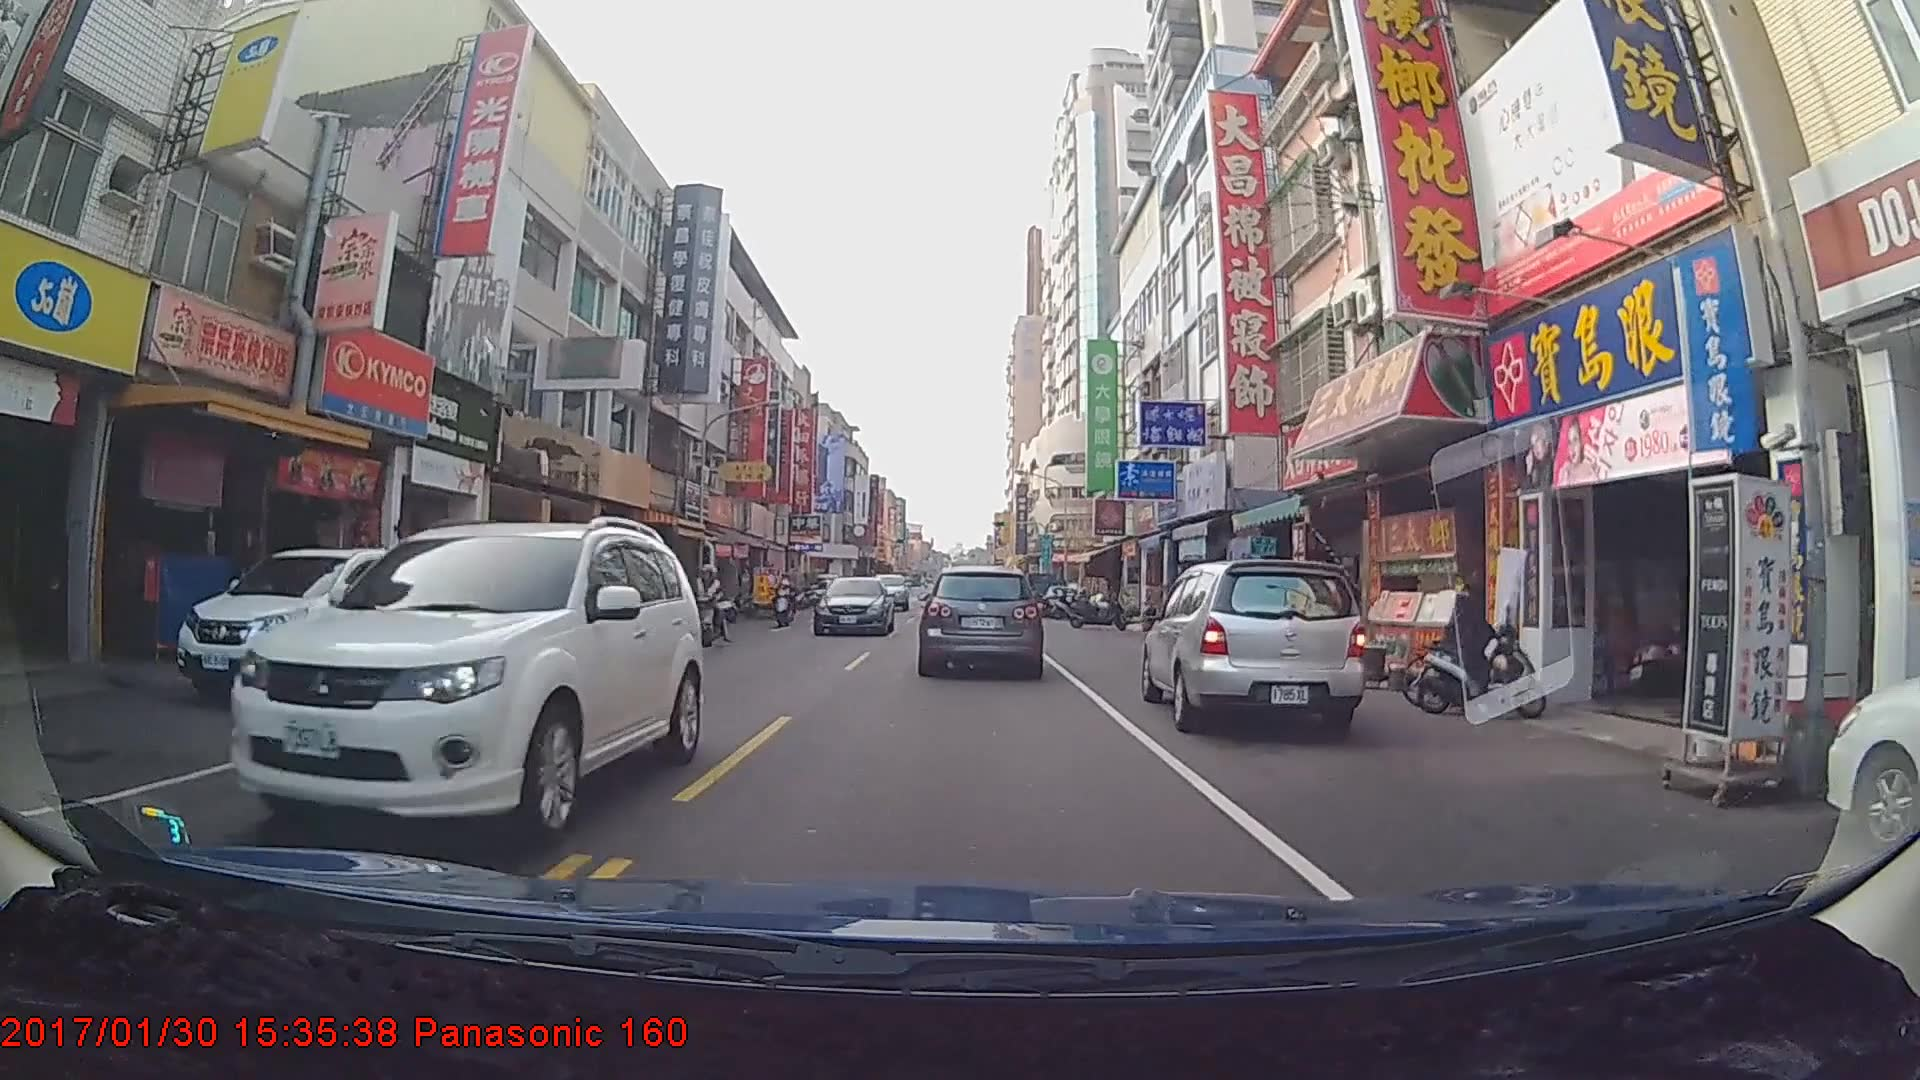rider: (1415, 574, 1559, 732), (767, 574, 798, 626)
vehicle: (227, 517, 702, 851), (1139, 561, 1365, 738), (175, 547, 428, 706), (921, 562, 1040, 675), (811, 576, 897, 637), (864, 573, 908, 612)
